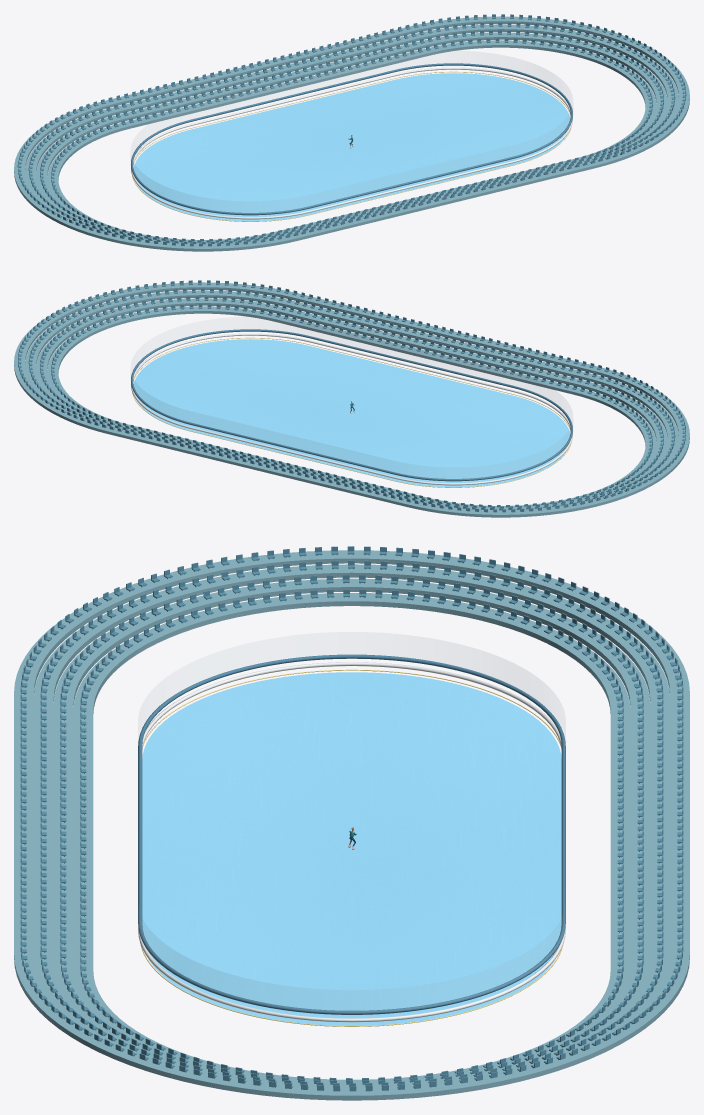
Rendered from 2A-C07-iteration-1-web.glb.
3 renders of one model, top to bottom at view 1: azimuth 30°, elevation 25°; view 2: azimuth 150°, elevation 25°; view 3: azimuth 270°, elevation 25°, orthographic. The views are drawn at different scales.
Parts seen in each view (by area): view 1: V23 capsule ice · 60 m × 30 m (30 m straights + semicircles), V23 · continuous capsule tier 4, V23 · continuous capsule tier 3, V23 · continuous capsule tier 1, V23 · continuous capsule tier 2, V23 · empty seat row 4 · 204 seats, V23 · empty seat row 3 · 196 seats, V23 · empty seat row 2 · 189 seats, V23 · empty seat row 1 · 181 seats, V23 continuous capsule top cap, V23 continuous capsule boards, V23 continuous capsule kick plate; view 2: V23 capsule ice · 60 m × 30 m (30 m straights + semicircles), V23 · continuous capsule tier 4, V23 · continuous capsule tier 3, V23 · continuous capsule tier 2, V23 · continuous capsule tier 1, V23 · empty seat row 4 · 204 seats, V23 · empty seat row 3 · 196 seats, V23 · empty seat row 2 · 189 seats, V23 · empty seat row 1 · 181 seats, V23 continuous capsule top cap, V23 continuous capsule boards, V23 continuous capsule kick plate; view 3: V23 capsule ice · 60 m × 30 m (30 m straights + semicircles), V23 · continuous capsule tier 4, V23 · continuous capsule tier 3, V23 · continuous capsule tier 2, V23 · continuous capsule tier 1, V23 · empty seat row 4 · 204 seats, V23 · empty seat row 3 · 196 seats, V23 · empty seat row 2 · 189 seats, V23 · empty seat row 1 · 181 seats, V23 continuous capsule top cap, V23 continuous capsule boards, V23 continuous capsule kick plate.
Part boxes in pixels (bbox=[...]): V23 capsule ice · 60 m × 30 m (30 m straights + semicircles): bbox=[133, 73, 570, 221]; V23 · continuous capsule tier 4: bbox=[14, 16, 689, 251]; V23 · continuous capsule tier 3: bbox=[25, 24, 678, 244]; V23 · continuous capsule tier 1: bbox=[47, 40, 656, 241]; V23 · continuous capsule tier 2: bbox=[36, 32, 667, 242]; V23 · empty seat row 4 · 204 seats: bbox=[17, 14, 686, 246]; V23 · empty seat row 3 · 196 seats: bbox=[28, 22, 675, 244]; V23 · empty seat row 2 · 189 seats: bbox=[40, 30, 663, 242]; V23 · empty seat row 1 · 181 seats: bbox=[51, 38, 652, 241]; V23 continuous capsule top cap: bbox=[131, 63, 572, 215]; V23 continuous capsule boards: bbox=[131, 67, 572, 219]; V23 continuous capsule kick plate: bbox=[132, 71, 571, 221]; V23 capsule ice · 60 m × 30 m (30 m straights + semicircles): bbox=[133, 339, 570, 487]; V23 · continuous capsule tier 4: bbox=[14, 282, 689, 517]; V23 · continuous capsule tier 3: bbox=[25, 290, 678, 510]; V23 · continuous capsule tier 2: bbox=[36, 298, 667, 508]; V23 · continuous capsule tier 1: bbox=[47, 306, 656, 507]; V23 · empty seat row 4 · 204 seats: bbox=[18, 280, 685, 512]; V23 · empty seat row 3 · 196 seats: bbox=[28, 288, 675, 510]; V23 · empty seat row 2 · 189 seats: bbox=[40, 296, 663, 508]; V23 · empty seat row 1 · 181 seats: bbox=[51, 304, 652, 507]; V23 continuous capsule top cap: bbox=[131, 329, 572, 481]; V23 continuous capsule boards: bbox=[131, 333, 572, 485]; V23 continuous capsule kick plate: bbox=[132, 337, 571, 487]; V23 capsule ice · 60 m × 30 m (30 m straights + semicircles): bbox=[142, 672, 561, 1025]; V23 · continuous capsule tier 4: bbox=[14, 550, 689, 1100]; V23 · continuous capsule tier 3: bbox=[34, 564, 669, 1087]; V23 · continuous capsule tier 2: bbox=[53, 578, 650, 1084]; V23 · continuous capsule tier 1: bbox=[73, 593, 630, 1082]; V23 · empty seat row 4 · 204 seats: bbox=[20, 546, 683, 1091]; V23 · empty seat row 3 · 196 seats: bbox=[40, 560, 663, 1087]; V23 · empty seat row 2 · 189 seats: bbox=[60, 575, 643, 1084]; V23 · empty seat row 1 · 181 seats: bbox=[80, 589, 623, 1081]; V23 continuous capsule top cap: bbox=[138, 654, 565, 1014]; V23 continuous capsule boards: bbox=[138, 662, 565, 1022]; V23 continuous capsule kick plate: bbox=[140, 669, 563, 1026].
Size of the model in its own units: 92.36 by 3.04 by 48.36.
Materials: 24 (1 with a texture image).
